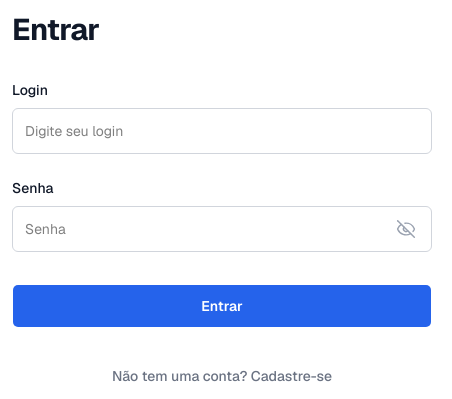
FormularioAutenticacao · entrar › UI de carregamento › deve desabilitar o botão durante autenticação pendente
Step 1. Type "meulogin" into the field labelled "Login" → (222, 131), box [12,108,432,154]
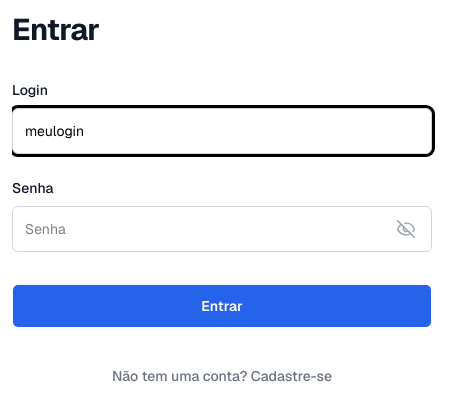
Step 2. Type "secret12" into the password field labelled "Senha" → (222, 229), box [12,206,432,252]
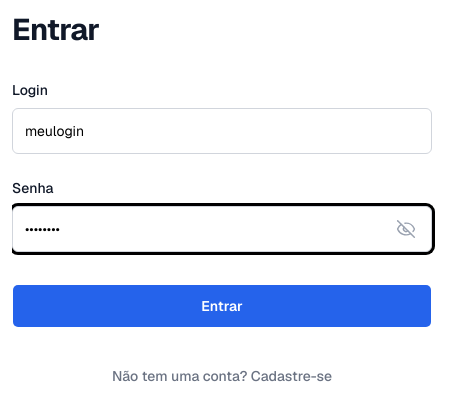
Step 3. Click the button "Entrar" → (222, 306), box [12,284,432,328]
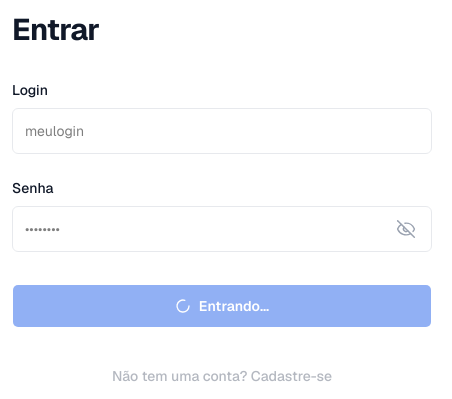
Expected: the button "Entrando…" is disabled, [12,284,432,328]
